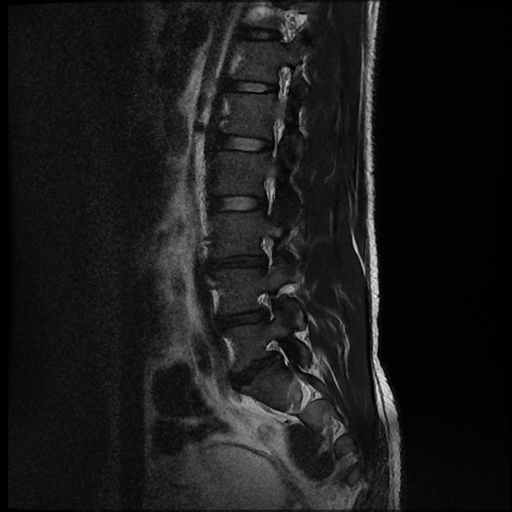RFS0: (246, 225, 284, 282), (246, 169, 283, 223)
RFS1: (245, 282, 283, 330)
